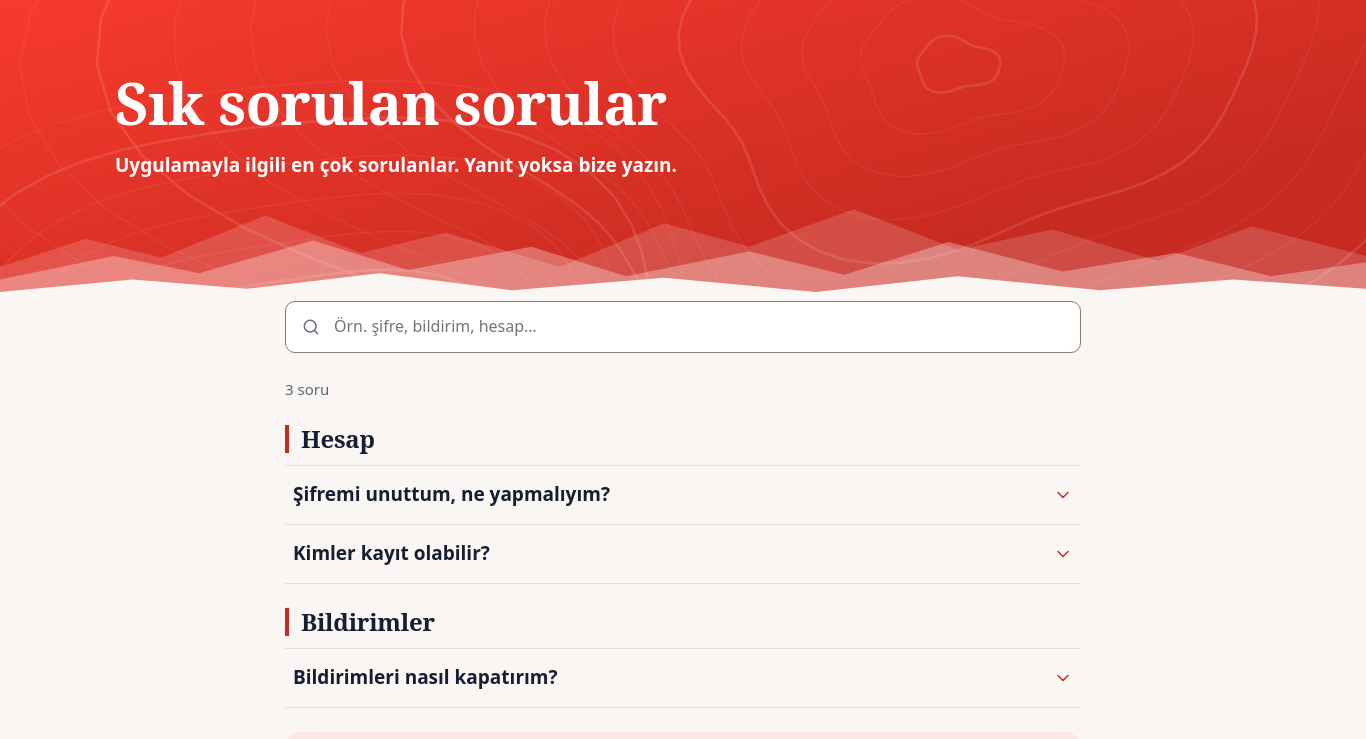
Test case: FaqPage › listeler, süzer, boş durumu gösterir
Check: the button "Şifremi unuttum, ne yapmalıyım?" is shown, box 285,466 -> 1081,524
Check: the text "3 soru" is shown, box 285,379 -> 329,399
Type "bildirim" into the search field named "Sorularda ara" at (683, 327), box 285,301 -> 1081,353
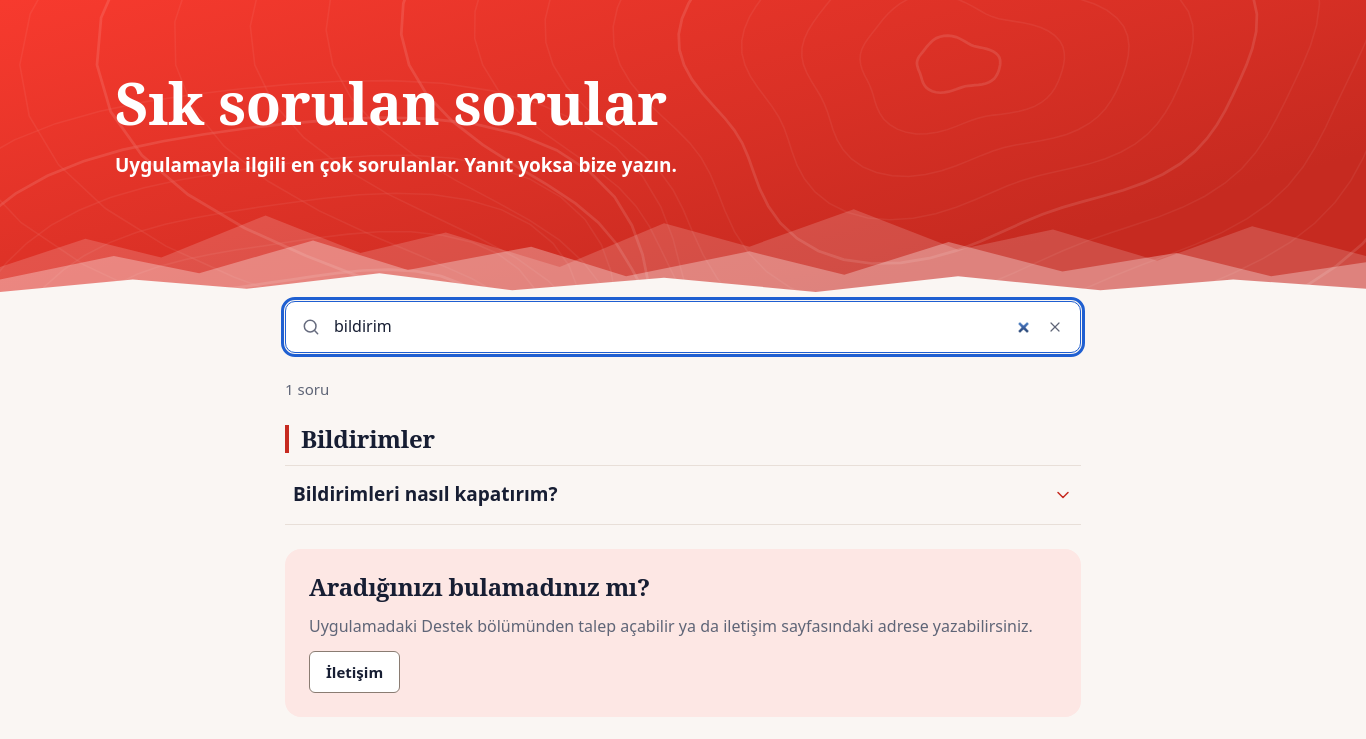
Check: the text "1 soru" is shown, box 285,379 -> 329,399
Check: the button "Şifremi unuttum" is gone
Replace the text in the search field named "Sorularda ara" with "xyzxyz" at (683, 327), box 285,301 -> 1081,353
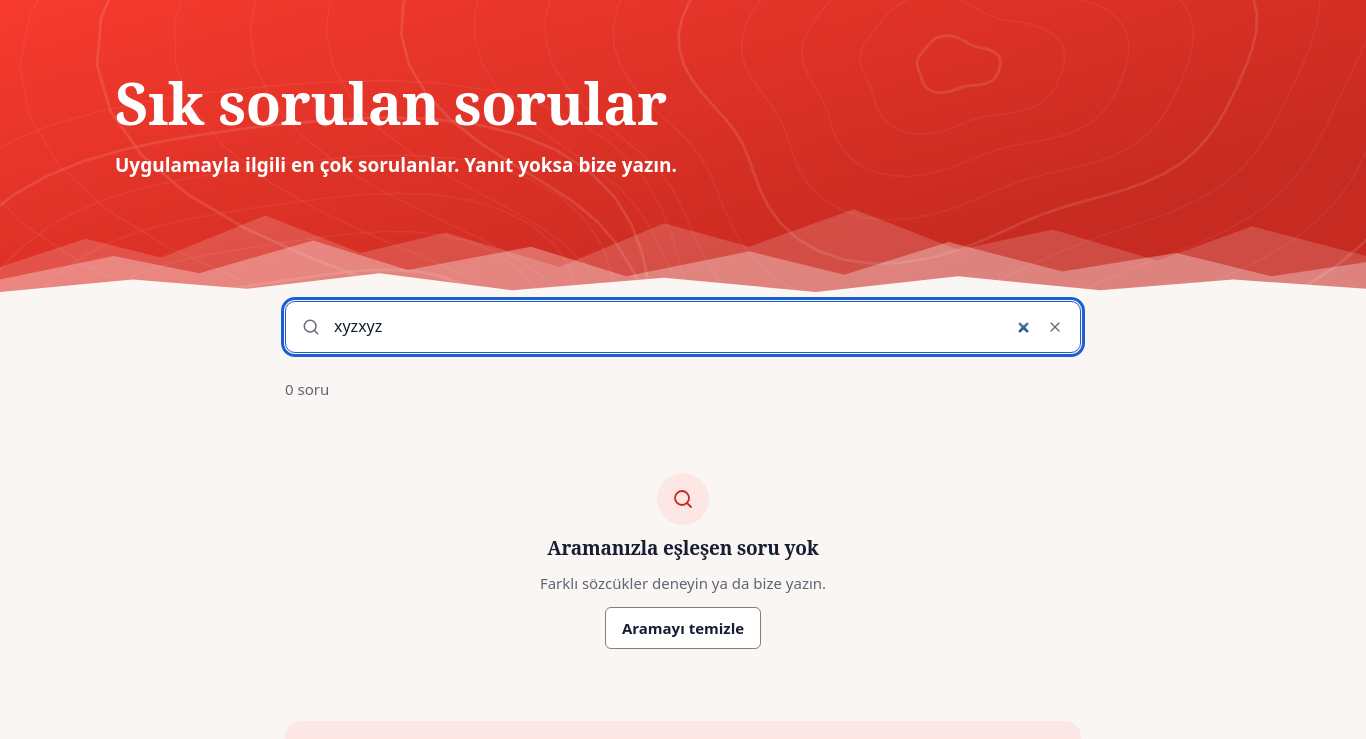
Check: the heading "Aramanızla eşleşen soru yok" is shown, box 547,537 -> 819,559
